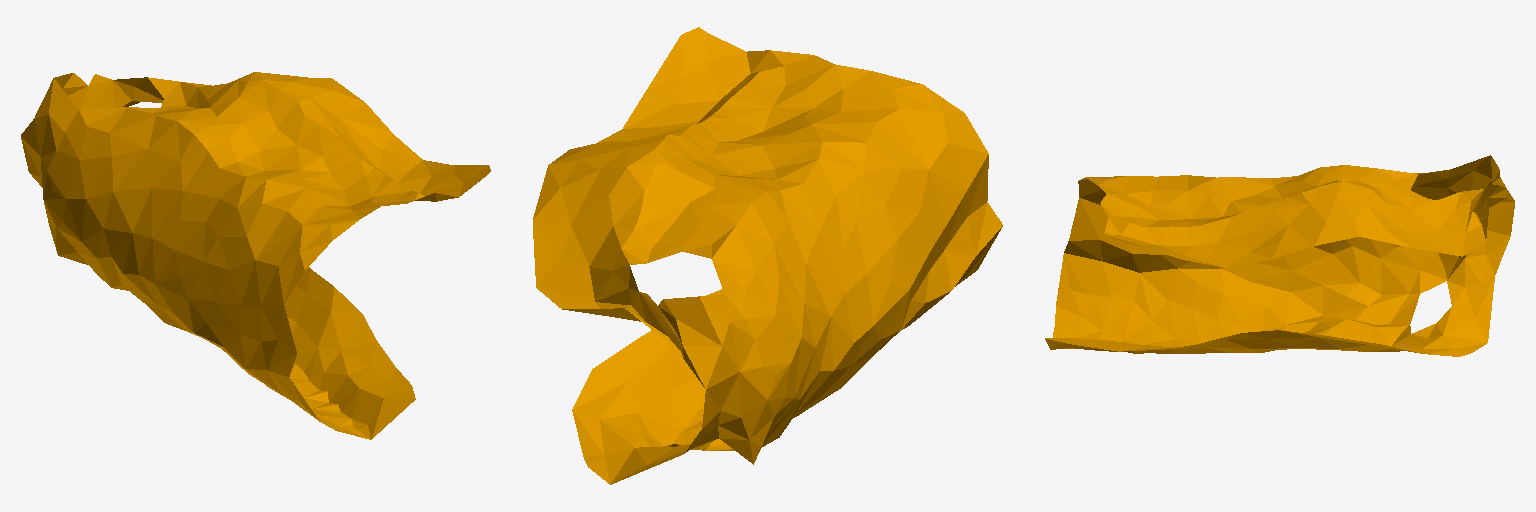
The robot description file, URDF, robot "init":
<?xml version='1.0' encoding='utf-8'?>
<robot name="init">
<link name="link_0"><inertial><mass value="1.0" /><origin rpy="0 0 0" xyz="0.000000 0.000000 0.000000" /><inertia ixx="1.0" ixy="0.0" ixz="0.0" iyy="1.0" iyz="0.0" izz="1.0" /></inertial><visual><origin rpy="0 0 0" xyz="0.000000 0.000000 0.000000" /><geometry><mesh filename="./clothHuman/cloth/2769.obj" /></geometry></visual><collision><origin rpy="0 0 0" xyz="0.000000 0.000000 0.000000" /><geometry><mesh filename="./clothHuman/cloth/2769.obj" /></geometry></collision></link></robot>

--- What the picture shows (computed from the rendered views, not written in the file) ---
Views: 3 orthographic renders of the robot side by side, from view 1: azimuth 30°, elevation 25°; view 2: azimuth 150°, elevation 25°; view 3: azimuth 270°, elevation 25°.
Robot: init — 1 links, 0 joints (none); root link link_0; default pose: all joints at 0.
Visible links, largest first — view 1: link_0; view 2: link_0; view 3: link_0.
Boxes of the visible links, left/top/right/bottom form: link_0: left=21, top=72, right=490, bottom=439; link_0: left=533, top=27, right=1002, bottom=484; link_0: left=1045, top=155, right=1514, bottom=356.
Size in the robot's own frame: 2.16 by 3.9 by 1.78 metres.
1 mesh visuals loaded from 1 distinct referenced files (1 OBJ).